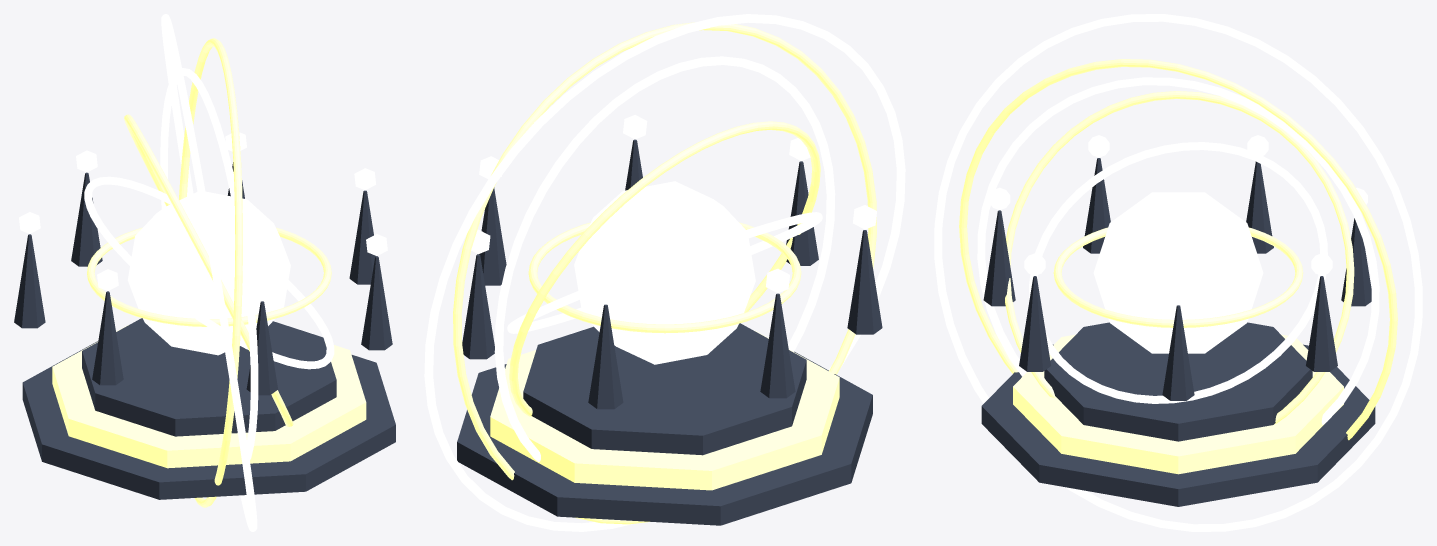
Rendered from gpu-blender-v39.glb.
The picture shows the model from 3 angles, left to right: view 1: azimuth 30°, elevation 25°; view 2: azimuth 150°, elevation 25°; view 3: azimuth 270°, elevation 25°; orthographic projection. The views are drawn at different scales.
Visible parts, largest first — view 1: Cylinder.002, Cylinder, SovereignCore_pwa-manifest-builder, Cylinder.001, Torus.005, Torus.004, Torus.003, Torus.001, Torus, Torus.002, Cone.003, Cone.006 (+4 smaller); view 2: Cylinder.002, SovereignCore_pwa-manifest-builder, Cylinder, Cylinder.001, Torus.005, Torus.003, Torus.004, Torus.002, Torus.001, Torus, Cone.002, Cone.003 (+4 smaller); view 3: SovereignCore_pwa-manifest-builder, Cylinder.002, Cylinder, Cylinder.001, Torus.005, Torus.004, Torus.003, Torus.002, Torus.001, Torus, Cone, Cone.001 (+5 smaller).
Part boxes in pixels (box(x1,y1,x2,y2)): Cylinder.002: box(82, 318, 336, 436); Cylinder: box(22, 341, 395, 499); SovereignCore_pwa-manifest-builder: box(127, 191, 290, 355); Cylinder.001: box(52, 325, 366, 468); Torus.005: box(161, 14, 257, 531); Torus.004: box(179, 38, 242, 507); Torus.003: box(160, 68, 258, 459); Torus.001: box(84, 176, 334, 369); Torus: box(87, 227, 331, 326); Torus.002: box(124, 114, 293, 426); Cone.003: box(14, 234, 45, 328); Cone.006: box(361, 256, 392, 350); Cylinder.002: box(523, 323, 806, 455); SovereignCore_pwa-manifest-builder: box(574, 181, 755, 364); Cylinder: box(457, 351, 872, 525); Cylinder.001: box(490, 330, 839, 490); Torus.005: box(424, 14, 905, 531); Torus.003: box(494, 56, 835, 461); Torus.004: box(453, 22, 876, 524); Torus.002: box(509, 121, 820, 416); Torus.001: box(507, 212, 822, 333); Torus: box(528, 222, 801, 333); Cone.002: box(588, 304, 623, 409); Cone.003: box(760, 293, 795, 398); SovereignCore_pwa-manifest-builder: box(1093, 192, 1263, 353); Cylinder.002: box(1044, 322, 1312, 441); Cylinder: box(981, 344, 1375, 506); Cylinder.001: box(1013, 334, 1343, 474); Torus.005: box(934, 14, 1422, 531); Torus.004: box(959, 59, 1397, 440); Torus.003: box(977, 77, 1379, 424); Torus.002: box(1005, 91, 1354, 423); Torus.001: box(1029, 142, 1327, 403); Torus: box(1053, 227, 1303, 327); Cone: box(1162, 305, 1194, 400); Cone.001: box(1306, 276, 1337, 371).
Bounding box in the file's own units: 4.41 × 5.93 × 5.46.
